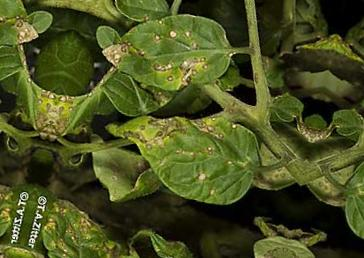Tomato Septoria leaf spot: (87, 94, 268, 220), (95, 0, 240, 110), (45, 73, 110, 157), (241, 220, 291, 258), (87, 247, 173, 258), (87, 0, 234, 2)
